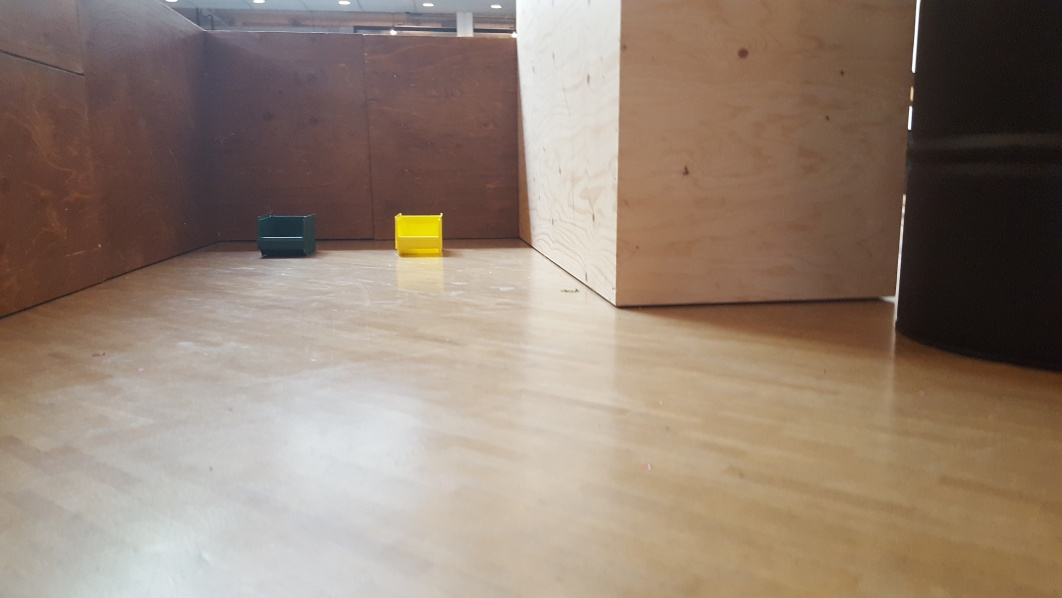tray: (255, 210, 321, 256), (390, 212, 447, 254)
